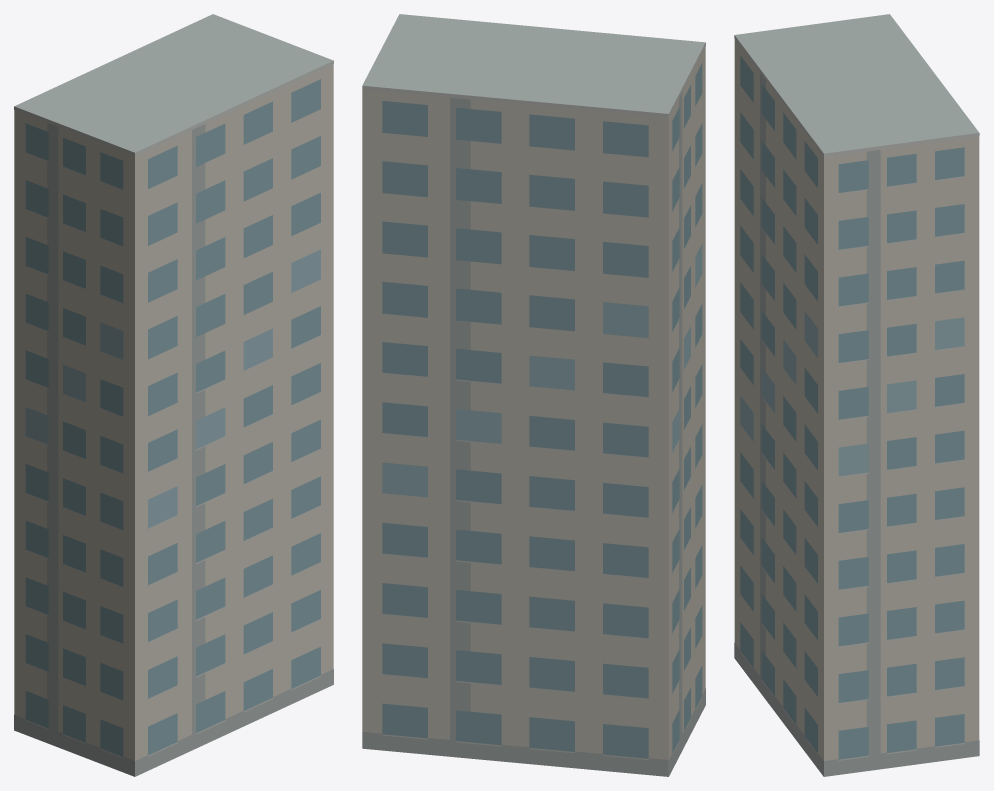
Rendered from residential-73cbe356-4ef8-4067-8b02-43108704bd15.glb.
3 renders of one model, left to right at view 1: azimuth 30°, elevation 25°; view 2: azimuth 150°, elevation 25°; view 3: azimuth 270°, elevation 25°, orthographic. The views are drawn at different scales.
Visible parts, largest first — view 1: residential-73cbe356-4ef8-4067-8b02-43108704bd15.tmp; view 2: residential-73cbe356-4ef8-4067-8b02-43108704bd15.tmp; view 3: residential-73cbe356-4ef8-4067-8b02-43108704bd15.tmp.
Part boxes in pixels (bbox=[...]): residential-73cbe356-4ef8-4067-8b02-43108704bd15.tmp: bbox=[14, 14, 333, 776]; residential-73cbe356-4ef8-4067-8b02-43108704bd15.tmp: bbox=[362, 14, 705, 776]; residential-73cbe356-4ef8-4067-8b02-43108704bd15.tmp: bbox=[734, 14, 979, 776].
Bounding box in the file's own units: 19.71 × 41 × 14.62.
